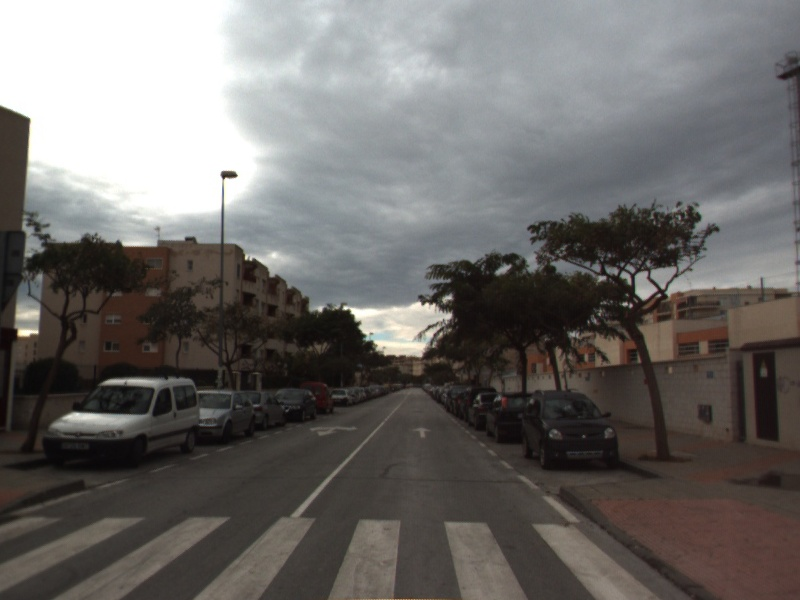STRAIGHT: (410, 425, 433, 439)
